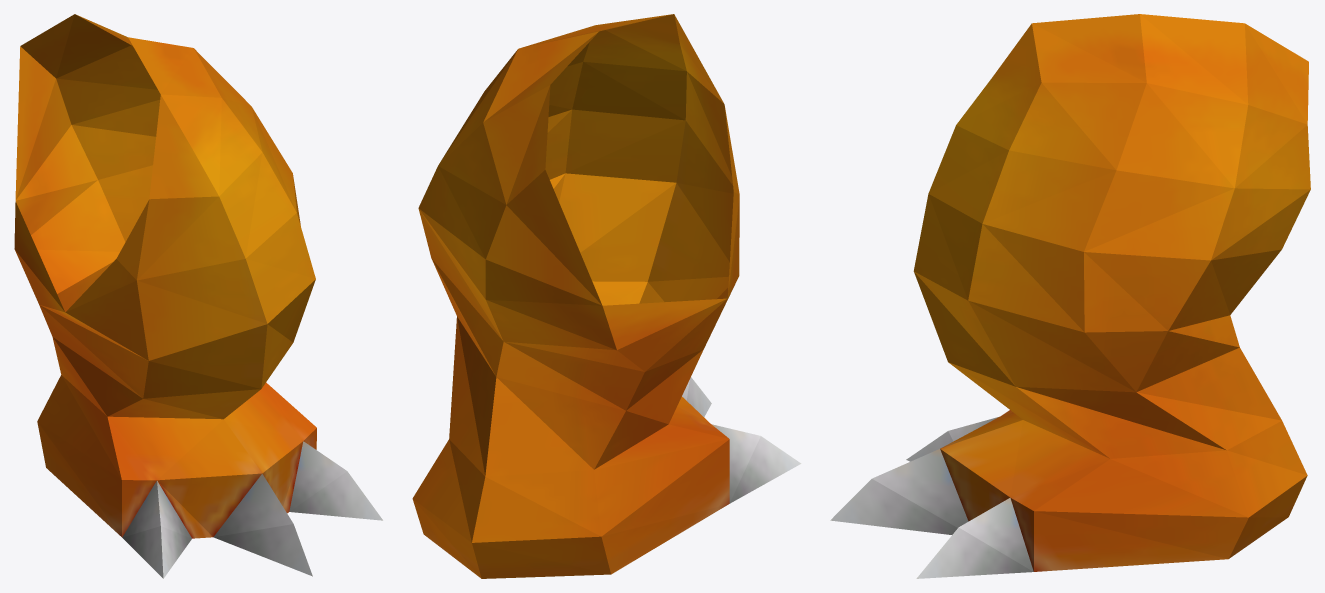
File: charizard_leg1.obj
3 renders of one model, left to right at view 1: azimuth 30°, elevation 25°; view 2: azimuth 150°, elevation 25°; view 3: azimuth 270°, elevation 25°, orthographic. The views are drawn at different scales.
Parts seen in each view (by area): view 1: leg1; view 2: leg1; view 3: leg1.
Boxes of the visible parts, x1,y1,x2,y2 form: leg1: (14,14,382,578); leg1: (412,14,801,578); leg1: (830,14,1310,578).
Size of the model in its own units: 557 by 983 by 885.
1 material, 1 textured.
